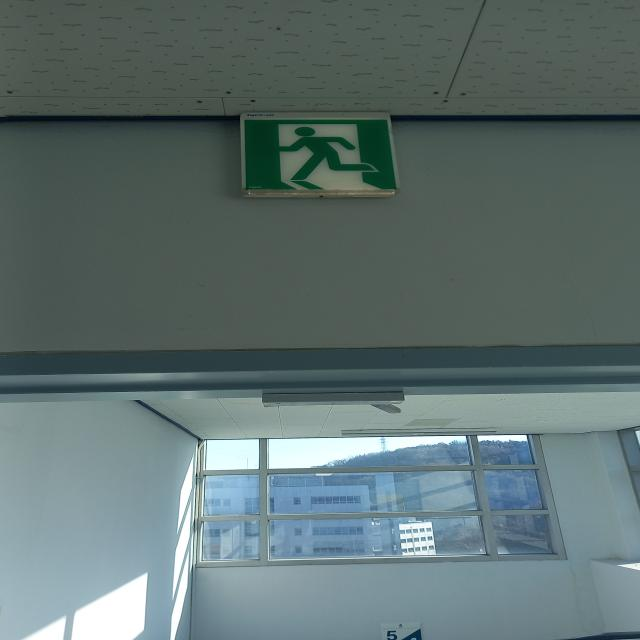person: (233, 114, 404, 200)
